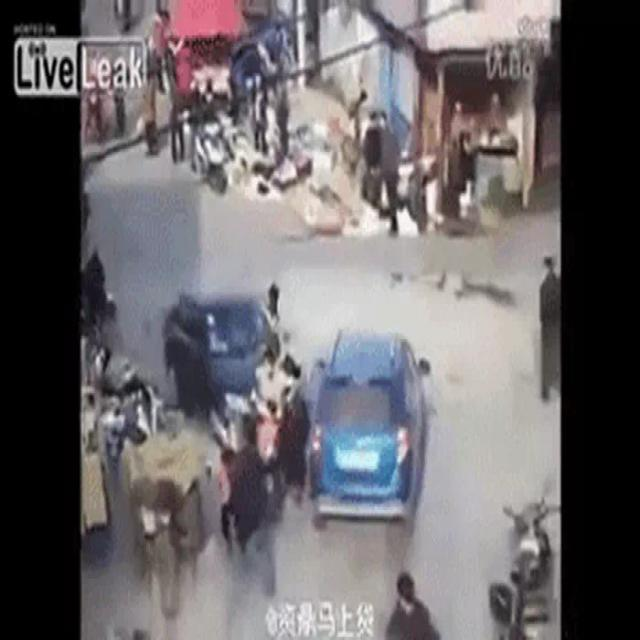multiple_accident: (155, 270, 324, 583)
